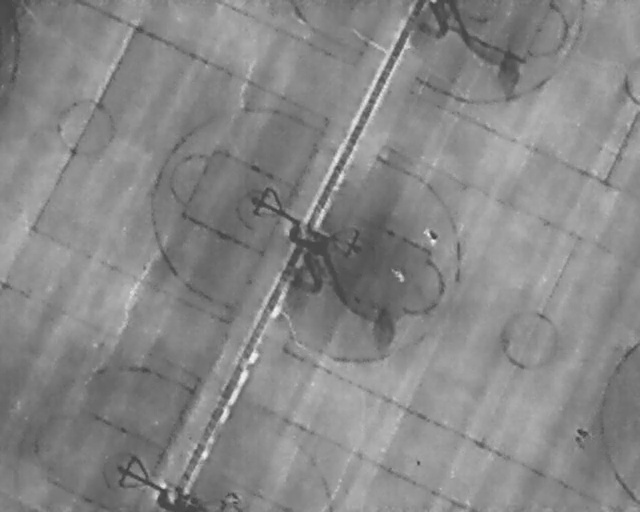Person: (423, 225, 439, 247), (392, 266, 403, 283)
